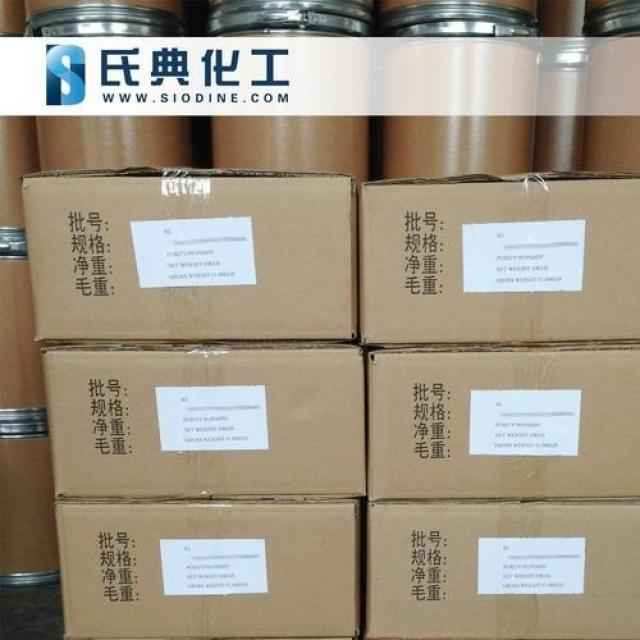box: (20, 173, 360, 344), (41, 343, 366, 502), (360, 173, 640, 349), (366, 344, 640, 502), (56, 502, 370, 637), (364, 499, 640, 639)
